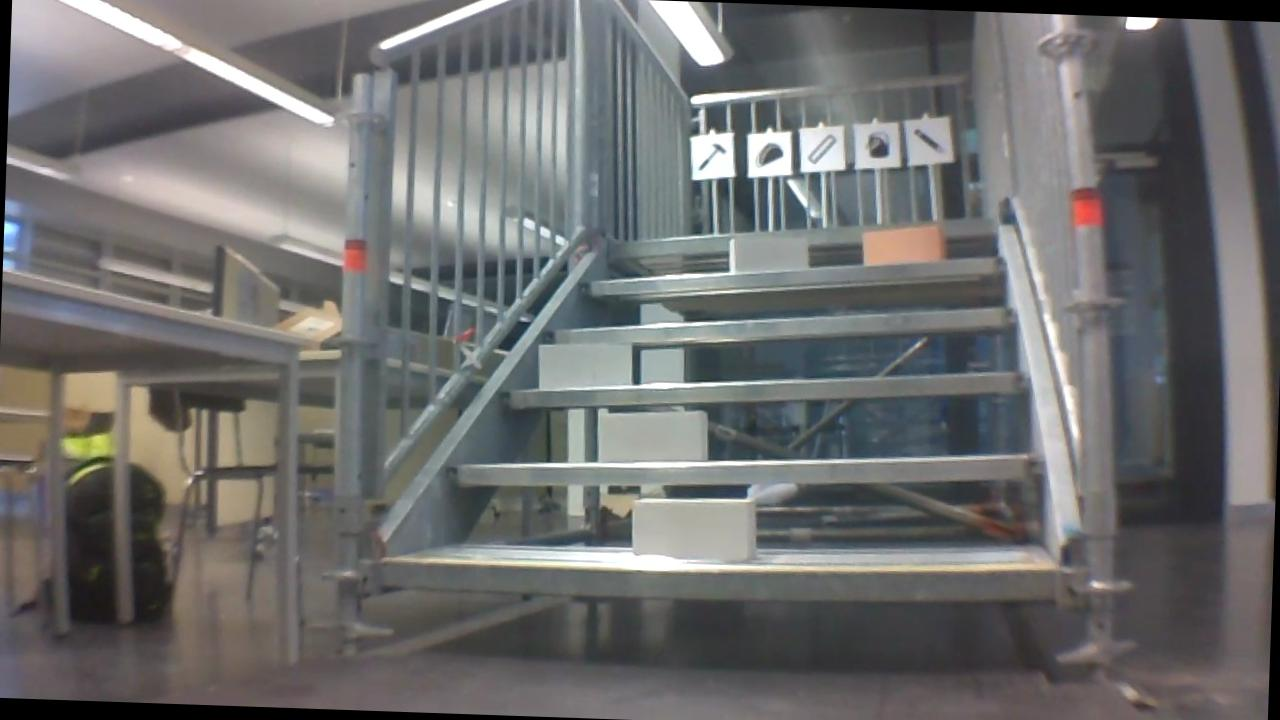brick: (630, 495, 758, 560), (600, 408, 704, 462), (539, 341, 628, 391), (864, 224, 942, 265), (727, 236, 809, 274)
bucket: (862, 125, 895, 162)
edge: (382, 547, 1056, 610), (445, 436, 1038, 500), (499, 354, 1029, 423), (543, 289, 1022, 357), (586, 243, 1013, 307), (609, 206, 994, 260)
hammer: (697, 140, 730, 175)
pencil: (911, 123, 950, 158)
ruler: (803, 127, 840, 169)
steps: (367, 189, 1080, 626)
taco: (750, 137, 784, 169)
